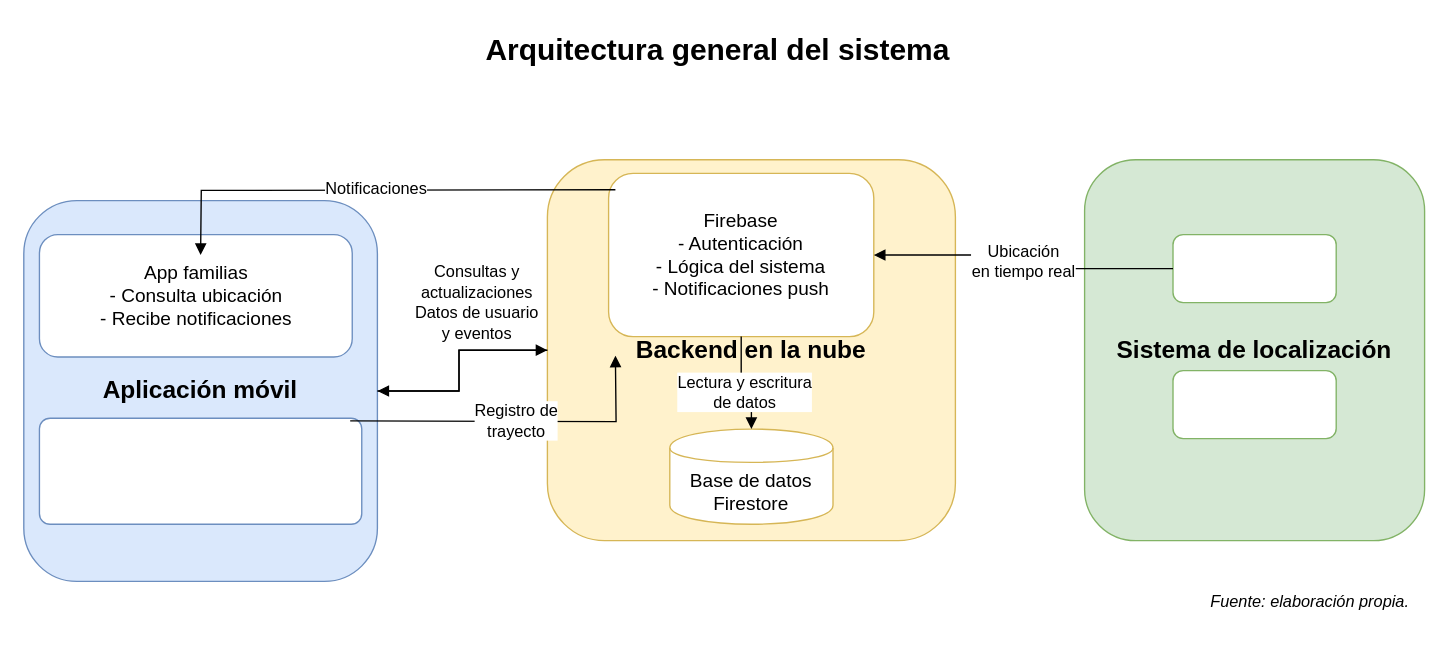
Some shapes in this 1448 by 645 pixel diagram are drawn without their labels. Here are the shapes that lost their labels. From the top down, the centre of each, then its label:
At pixel 1254 268: "GPS del autobús".
At pixel 1254 404: "Autobús escolar".
At pixel 200 470: "App cuidadores - Inicia ruta - Registra subida/bajada - Gestiona incidencias".
